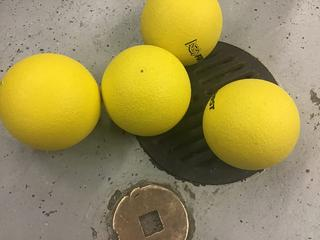power_cell: (202, 67, 308, 172), (103, 46, 193, 153), (4, 55, 99, 153), (138, 2, 222, 62)
